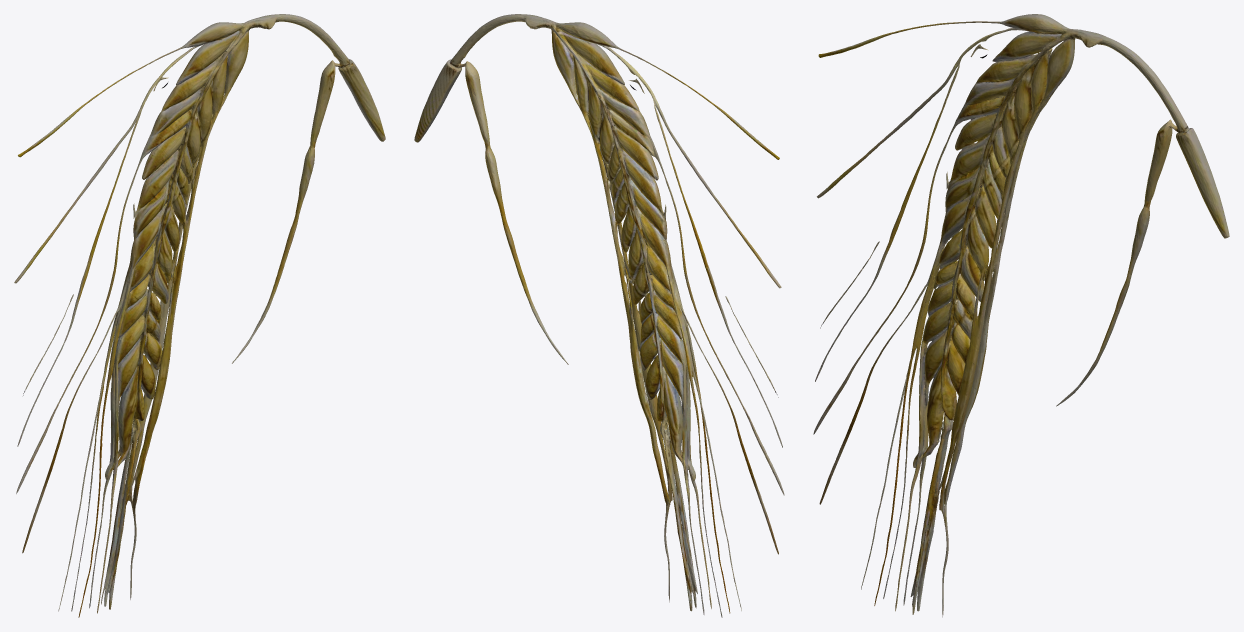
File: barley.glb
The picture shows the model from 3 angles, left to right: view 1: azimuth 30°, elevation 25°; view 2: azimuth 150°, elevation 25°; view 3: azimuth 330°, elevation 25°; orthographic projection. The views are drawn at different scales.
Parts seen in each view (by area): view 1: world; view 2: world; view 3: world.
Boxes of the visible parts, x1=… form: world: x1=14, y1=14, x2=385, y2=617; world: x1=414, y1=14, x2=784, y2=617; world: x1=813, y1=14, x2=1229, y2=617.
Bounding box in the file's own units: 1.38 × 1.99 × 0.0794.
1 material, 1 textured.
